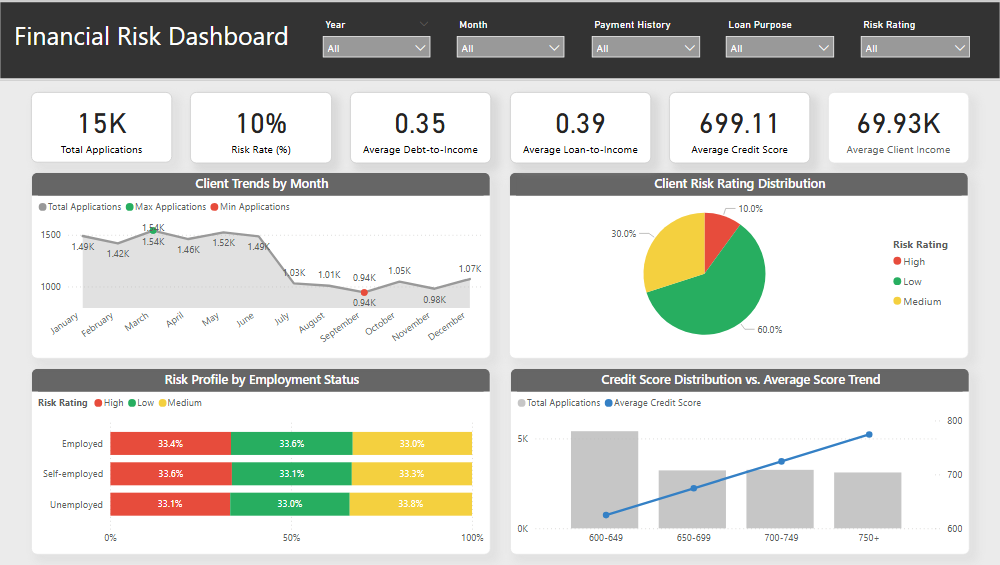

This screenshot's page, from the dashboard's own definition file:
{"tool":"powerbi","page":{"name":"Clients Risk Analysis","canvas":[1280,720],"ordinal":0},"visuals":[{"type":"shape","box":[0,0,1280,102.9],"z":0},{"type":"slicer","fields":{"Values":["financial_risk_assessment.Loan Purpose"]},"box":[918.4,19.3,157.7,67.4],"z":1000},{"type":"slicer","fields":{"Values":["financial_risk_assessment.Payment History"]},"box":[746.7,19.3,157.7,67.4],"z":2000},{"type":"slicer","fields":{"Values":["financial_risk_assessment.Risk Rating"]},"box":[1090.1,19.3,159.2,67.4],"z":3000},{"type":"slicer","fields":{"Values":["Calendar.Month Name"]},"box":[575.5,19.4,157.1,67.1],"z":4000},{"type":"slicer","fields":{"Values":["Calendar.Year"]},"box":[404.3,19.4,157.1,67.1],"z":5000},{"type":"textbox","box":[15.3,18.4,369,67.4],"z":6000},{"type":"card","fields":{"Values":["_Measures.Average Client Income"]},"box":[1058.2,117.2,179.8,90.5],"z":7000},{"type":"card","fields":{"Values":["_Measures.Risk Rate (%)"]},"box":[245,117.2,181,90.5],"z":8000},{"type":"card","fields":{"Values":["_Measures.Average DTI"]},"box":[449.2,117.2,179.8,90.5],"z":9000},{"type":"card","fields":{"Values":["_Measures.Total Applications"]},"box":[41.8,117.5,180,90],"z":10000},{"type":"card","fields":{"Values":["_Measures.Average Credit Score"]},"box":[855.2,117.2,179.8,90.5],"z":11000},{"type":"lineChart","title":"Client Trends by Month","fields":{"Y":["_Measures.Total Applications","_Measures.Max Applications","_Measures.Min Applications"],"Category":["Calendar.Month Name"]},"box":[42.1,219.3,586.5,238.4],"z":12000},{"type":"pieChart","title":"Client Risk Rating Distribution","fields":{"Category":["financial_risks.Risk Rating"],"Y":["_Measures.Total Applications"]},"box":[651.5,219.3,586.5,238.4],"z":13000},{"type":"hundredPercentStackedBarChart","title":" Risk Profile by Employment Status","fields":{"Y":["Avg(financial_risks.Debt-to-Income Ratio)"],"Series":["financial_risks.Risk Rating"],"Category":["financial_risks.Employment Status"]},"box":[42.1,469.2,586.5,238.4],"z":14000},{"type":"lineStackedColumnComboChart","title":"Credit Score Distribution vs. Average Score Trend","fields":{"Category":["financial_risks.Credit Score Group"],"Y":["_Measures.Total Applications"],"Y2":["_Measures.Average Credit Score"]},"box":[652.7,469.2,586.5,238.4],"z":15000},{"type":"card","fields":{"Values":["_Measures.Average Loan-to-Income"]},"box":[652.2,117.2,179.8,90.5],"z":15001}]}

Visuals, with their boxes in screenshot pixels (x1, y1, x2, y2), scaled from the page's 1280x720 canvas onto the 1000x565 screenshot:
shape: (x1=0, y1=0, x2=999, y2=81)
slicer - financial_risk_assessment.Loan Purpose: (x1=718, y1=15, x2=841, y2=68)
slicer - financial_risk_assessment.Payment History: (x1=583, y1=15, x2=707, y2=68)
slicer - financial_risk_assessment.Risk Rating: (x1=852, y1=15, x2=976, y2=68)
slicer - Calendar.Month Name: (x1=450, y1=15, x2=572, y2=68)
slicer - Calendar.Year: (x1=316, y1=15, x2=439, y2=68)
textbox: (x1=12, y1=14, x2=300, y2=67)
card - _Measures.Average Client Income: (x1=827, y1=92, x2=967, y2=163)
card - _Measures.Risk Rate (%): (x1=191, y1=92, x2=333, y2=163)
card - _Measures.Average DTI: (x1=351, y1=92, x2=491, y2=163)
card - _Measures.Total Applications: (x1=33, y1=92, x2=173, y2=163)
card - _Measures.Average Credit Score: (x1=668, y1=92, x2=809, y2=163)
"Client Trends by Month" lineChart: (x1=33, y1=172, x2=491, y2=359)
"Client Risk Rating Distribution" pieChart: (x1=509, y1=172, x2=967, y2=359)
" Risk Profile by Employment Status" hundredPercentStackedBarChart: (x1=33, y1=368, x2=491, y2=555)
"Credit Score Distribution vs. Average Score Trend" lineStackedColumnComboChart: (x1=510, y1=368, x2=968, y2=555)
card - _Measures.Average Loan-to-Income: (x1=510, y1=92, x2=650, y2=163)
